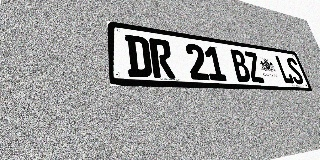1: (202, 45, 227, 81)
2: (184, 43, 210, 80)
B: (229, 49, 252, 82)
D: (125, 34, 153, 78)
L: (274, 55, 295, 84)
R: (149, 38, 176, 79)
S: (285, 57, 305, 85)
Z: (243, 51, 266, 83)
